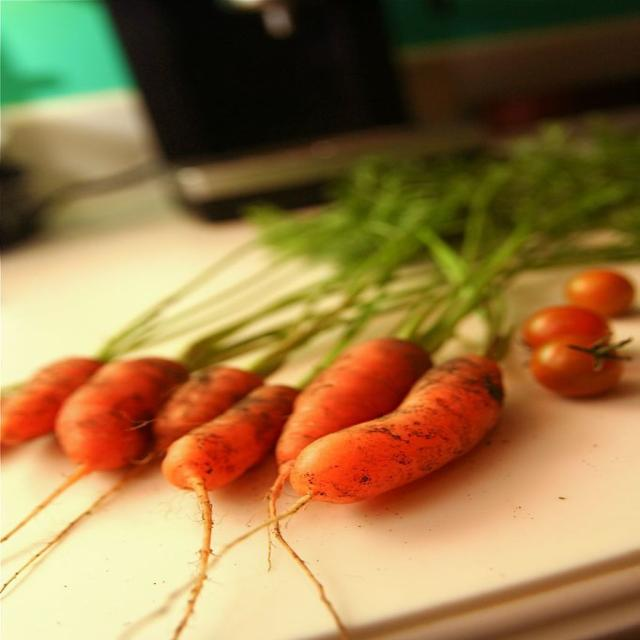carrot: (0, 119, 636, 639), (272, 336, 432, 640)
